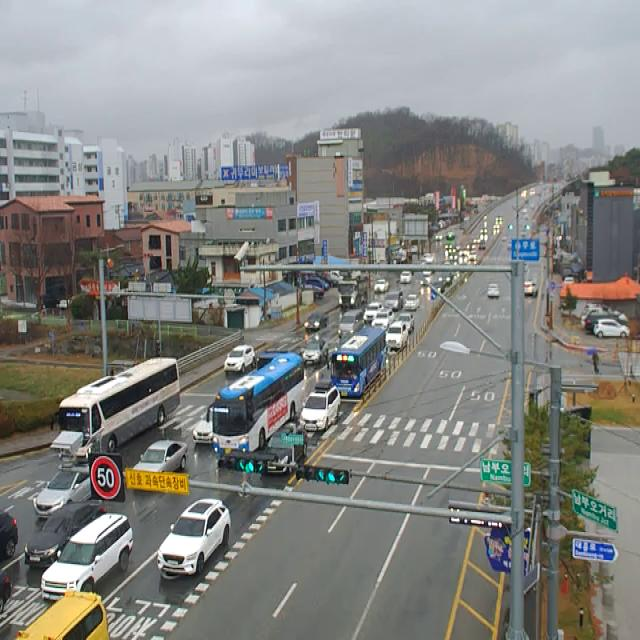Bus: (58, 357, 181, 462), (206, 354, 304, 454), (327, 329, 386, 396)
Car: (40, 514, 134, 600), (157, 498, 231, 576), (24, 502, 107, 566), (13, 589, 109, 640), (33, 467, 91, 517), (266, 423, 307, 473), (300, 380, 340, 431), (133, 440, 188, 472), (581, 305, 629, 328), (223, 344, 255, 373), (585, 310, 627, 332), (0, 512, 18, 562), (192, 402, 212, 445), (338, 310, 364, 338), (594, 319, 630, 339), (302, 340, 329, 366), (386, 321, 408, 348), (304, 311, 330, 331), (0, 575, 12, 612), (363, 303, 384, 323), (372, 310, 394, 329), (385, 291, 403, 311), (398, 313, 415, 333), (305, 285, 324, 301), (306, 278, 328, 291), (404, 294, 420, 311), (438, 271, 454, 286), (374, 279, 390, 293), (524, 282, 538, 298), (488, 282, 500, 298), (430, 282, 445, 294), (400, 271, 412, 284), (468, 251, 477, 261), (478, 241, 486, 250), (458, 248, 467, 256), (466, 243, 476, 250), (449, 246, 456, 255), (445, 243, 453, 250), (450, 254, 458, 261), (480, 235, 489, 241), (459, 258, 468, 264), (493, 223, 501, 229), (480, 228, 488, 234), (435, 234, 443, 240), (473, 238, 481, 243)
Truck: (339, 282, 368, 310)
